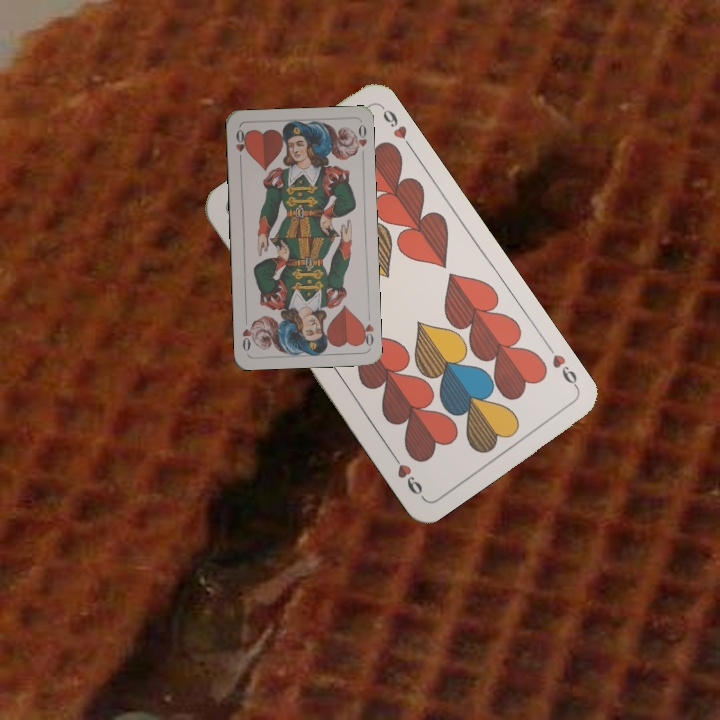H9: (548, 350, 582, 392)
HO: (357, 309, 377, 349), (232, 125, 249, 165)
